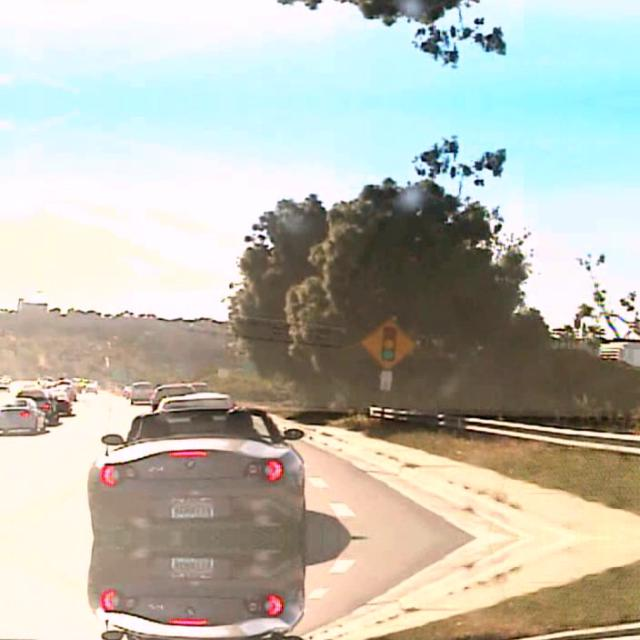signalAhead: (358, 316, 416, 368)
